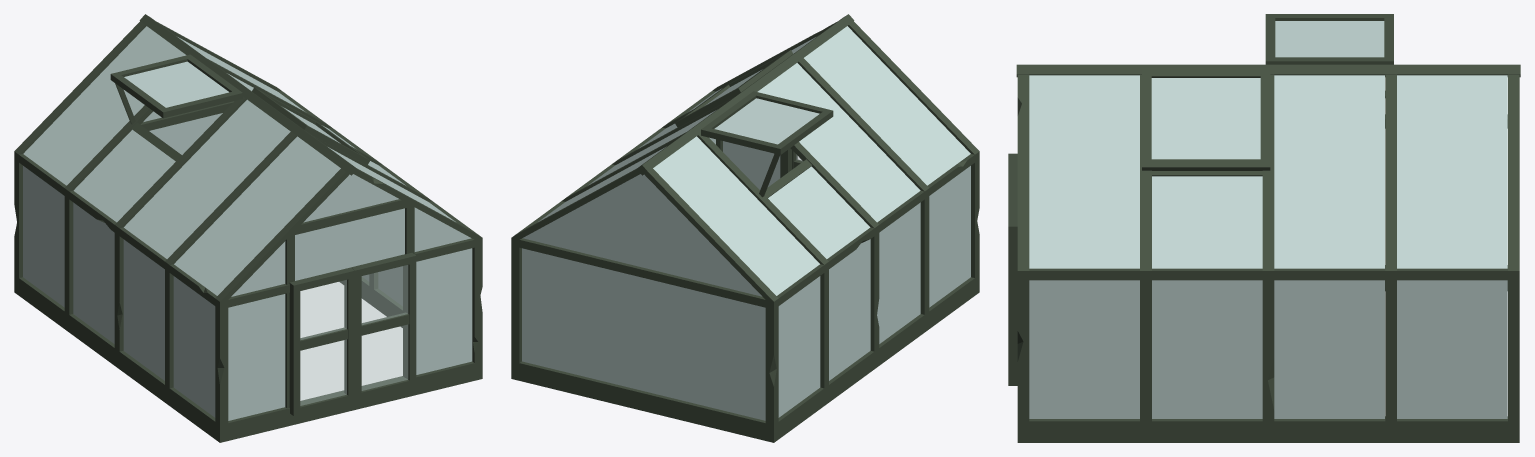
The model's file is farm-greenhouse-small.glb.
3 views of the same model, side by side, from view 1: azimuth 30°, elevation 25°; view 2: azimuth 150°, elevation 25°; view 3: azimuth 270°, elevation 25° (orthographic). The views are drawn at different scales.
Visible parts, largest first — view 1: farm-greenhouse-small; view 2: farm-greenhouse-small; view 3: farm-greenhouse-small.
Boxes of the visible parts, <box> form: farm-greenhouse-small: <box>14,14,482,442</box>; farm-greenhouse-small: <box>511,14,979,442</box>; farm-greenhouse-small: <box>1008,14,1520,442</box>.
Bounding box in the file's own units: 5.57 × 4.99 × 7.71.
6 materials, 3 textured.
